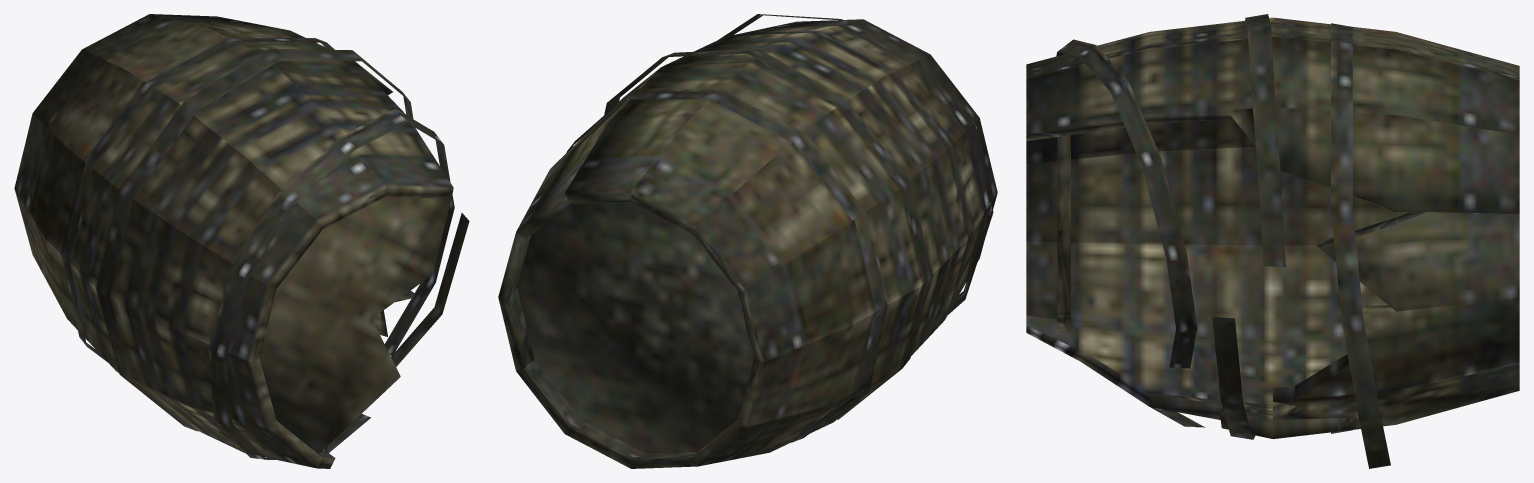
Rendered from tdr_d_barrel_dmg.obj.
3 views of the same model, side by side, from view 1: azimuth 30°, elevation 25°; view 2: azimuth 150°, elevation 25°; view 3: azimuth 270°, elevation 25° (orthographic). The views are drawn at different scales.
Visible parts, largest first — view 1: tdr_d_barrel_dmg; view 2: tdr_d_barrel_dmg; view 3: tdr_d_barrel_dmg.
Part boxes in pixels (left/top/right/bottom): tdr_d_barrel_dmg: left=14, top=14, right=469, bottom=468; tdr_d_barrel_dmg: left=498, top=14, right=997, bottom=468; tdr_d_barrel_dmg: left=1026, top=14, right=1519, bottom=468.
Size of the model in its own units: 409 by 417 by 472.
Materials: 1 (1 with a texture image).
